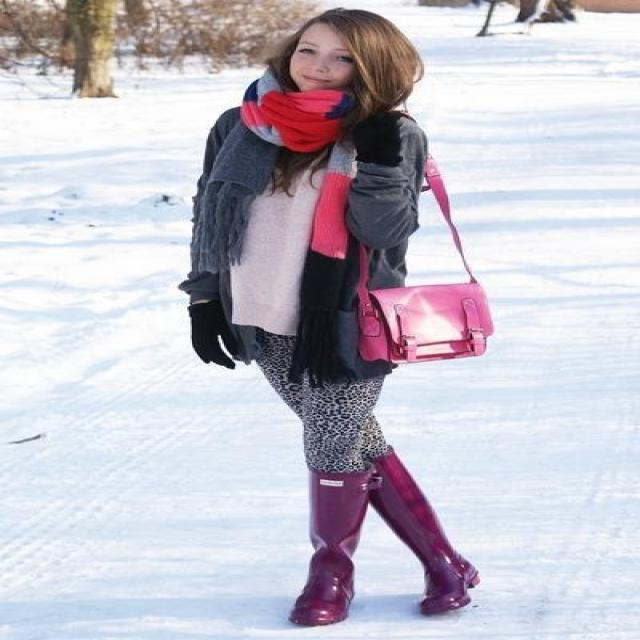bag: (338, 166, 491, 363)
jacket: (178, 108, 430, 392)
pants: (235, 325, 392, 498)
shirt: (230, 192, 316, 336)
shoe: (290, 448, 478, 626)
